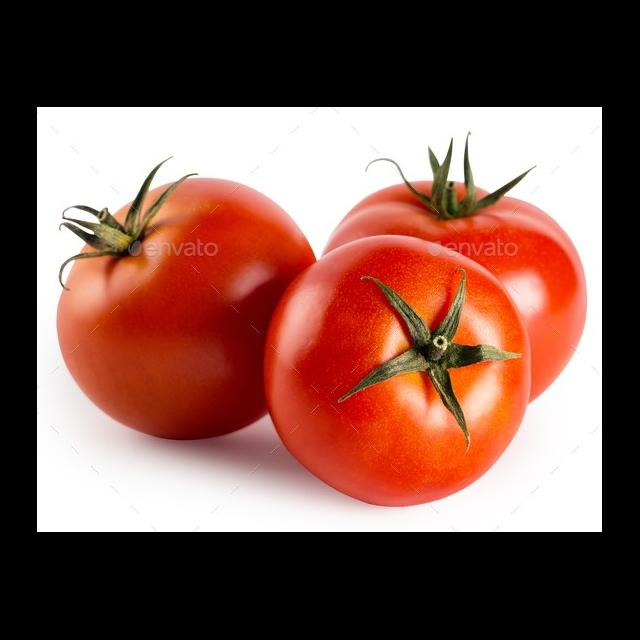tomato: (266, 238, 530, 506), (58, 178, 316, 440), (324, 184, 586, 395), (114, 202, 132, 224), (412, 182, 430, 196), (456, 182, 466, 202), (476, 188, 488, 200), (82, 246, 96, 252)
